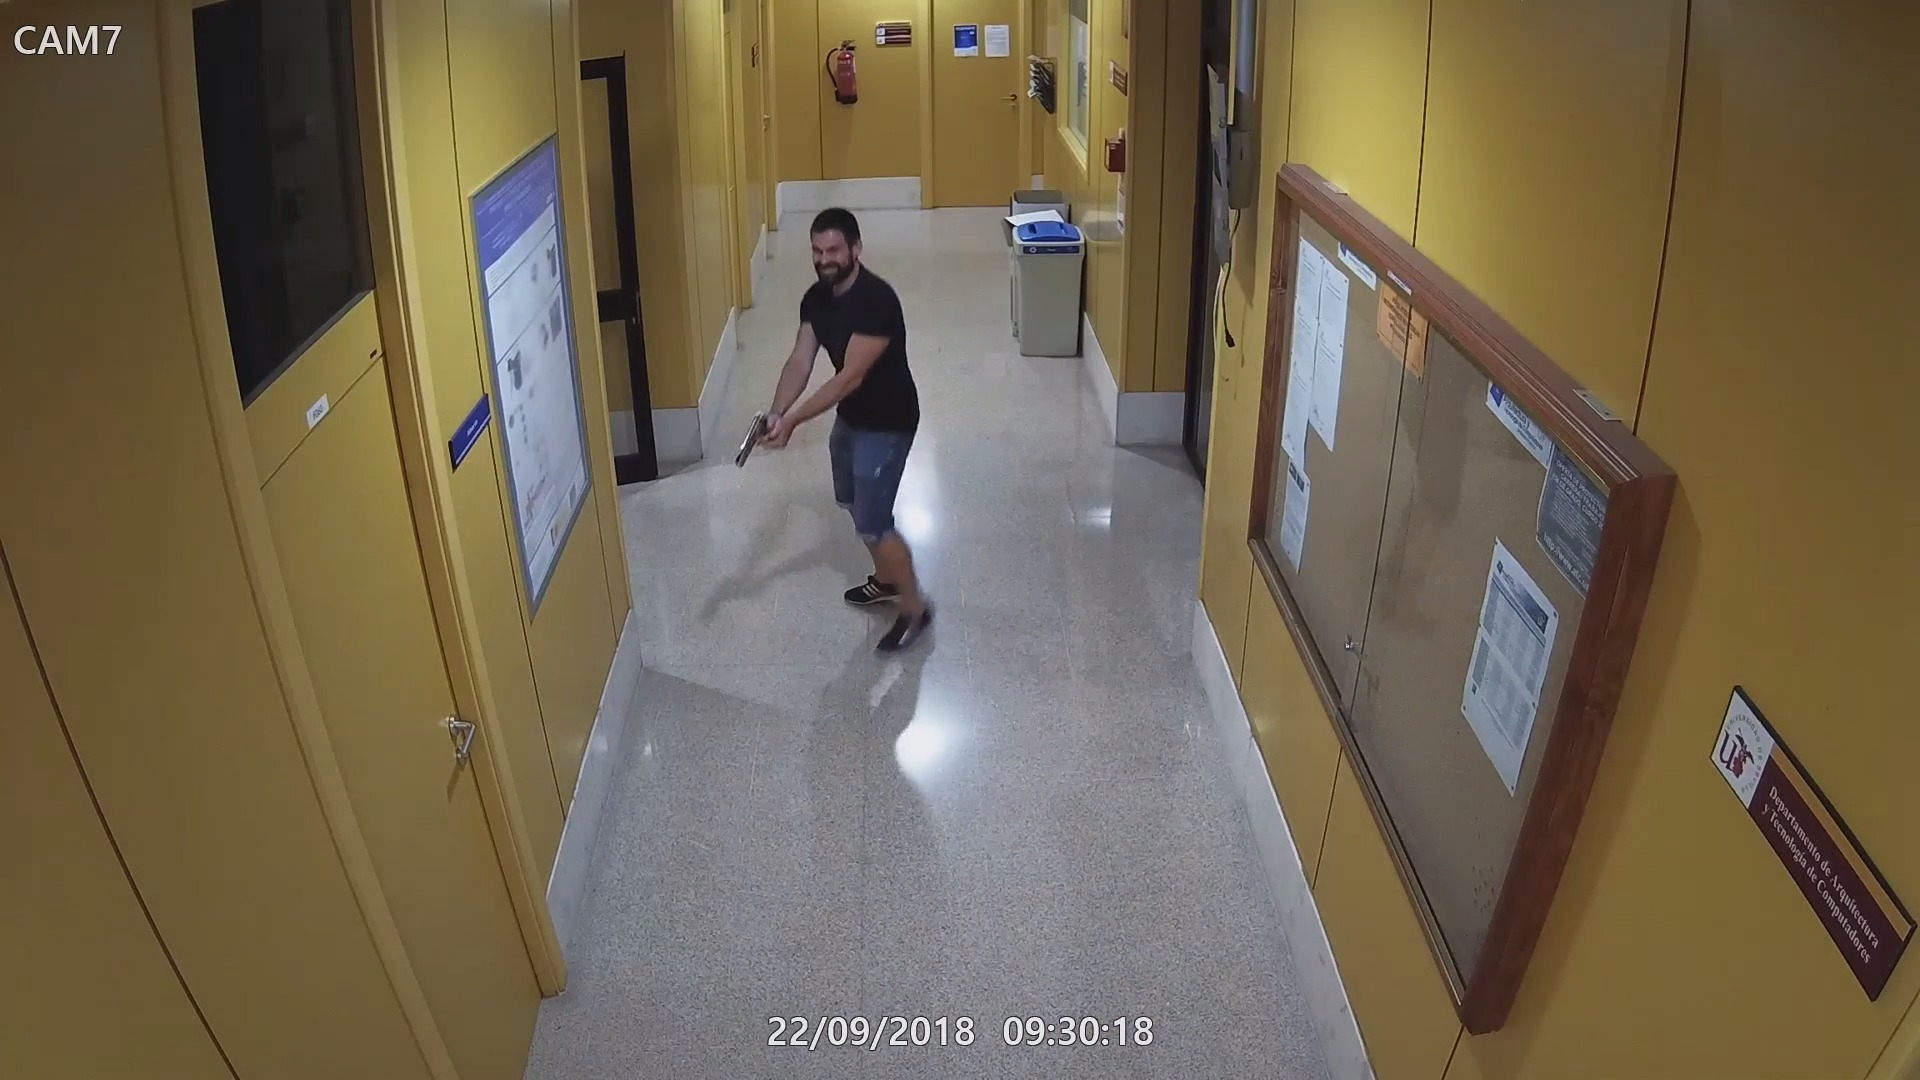Handgun: (731, 409, 793, 473)
